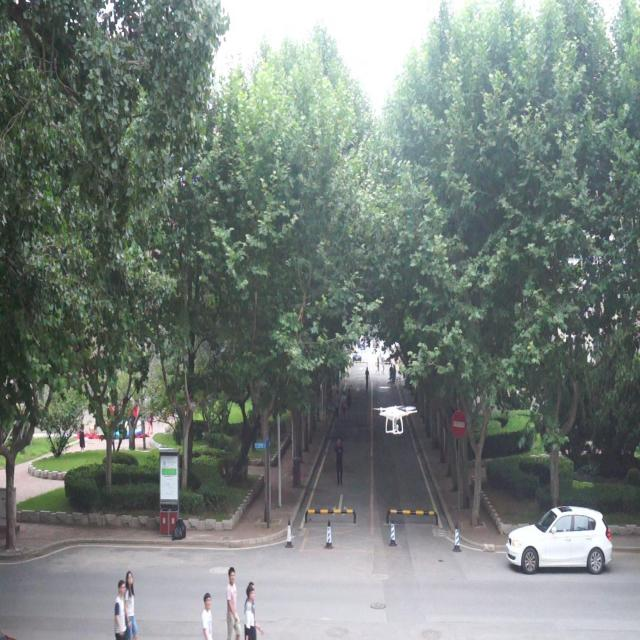UAV: (372, 406, 418, 434)
